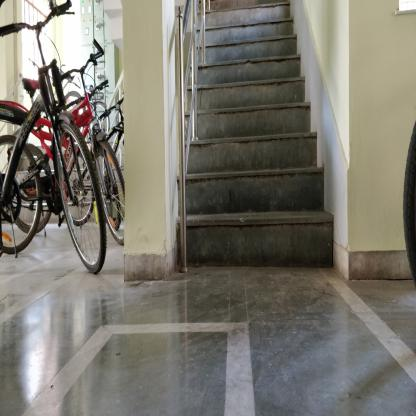stairs: (208, 17, 296, 278)
